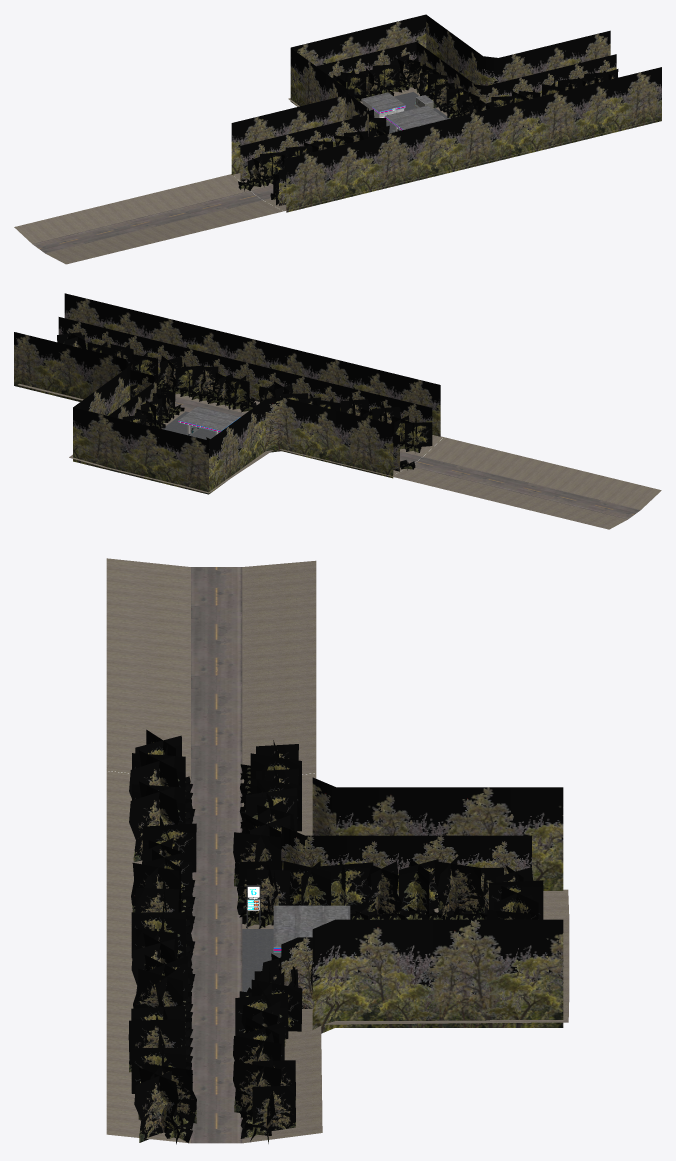
Rendered from gas_station.glb.
3 views of the same model, one above another, from view 1: azimuth 30°, elevation 25°; view 2: azimuth 150°, elevation 25°; view 3: azimuth 270°, elevation 25° (orthographic). The views are drawn at different scales.
Visible parts, largest first — view 1: Backgrounds_01, Backgrounds, Road.001, Trees_002, Trees_004, Trees_005, Trees_003, The_ceiling, Ground, 6twelve.003, AsphaltDamaged; view 2: Backgrounds, Backgrounds_01, Road.001, Trees_001, Ground, Trees_002, The_ceiling, Bushs_01, Road, AsphaltDamaged; view 3: Backgrounds, Road.001, Trees_001, Ground, Road, Trees, Trees_003, Trees_005, Trees_004, The_ceiling, AsphaltDamaged, Bushs_05 (+3 smaller).
Boxes of the visible parts, <box> form: Backgrounds_01: <box>279,67,661,212</box>; Backgrounds: <box>231,14,616,181</box>; Road.001: <box>14,174,283,264</box>; Trees_002: <box>409,63,481,115</box>; Trees_004: <box>332,54,420,97</box>; Trees_005: <box>247,126,386,181</box>; Trees_003: <box>476,69,618,111</box>; The_ceiling: <box>384,105,446,130</box>; Ground: <box>233,87,655,211</box>; 6twelve.003: <box>361,92,405,111</box>; AsphaltDamaged: <box>386,92,449,133</box>; Backgrounds: <box>14,332,399,494</box>; Backgrounds_01: <box>58,293,440,436</box>; Road.001: <box>391,437,661,529</box>; Trees_001: <box>57,328,432,447</box>; Ground: <box>17,384,443,493</box>; Trees_002: <box>122,387,175,427</box>; The_ceiling: <box>178,406,240,432</box>; Bushs_01: <box>190,388,421,452</box>; Road: <box>175,396,422,463</box>; AsphaltDamaged: <box>162,411,218,439</box>; Backgrounds: <box>281,777,563,1033</box>; Road.001: <box>106,558,316,779</box>; Trees_001: <box>128,729,196,1142</box>; Ground: <box>106,771,569,1143</box>; Road: <box>191,779,242,1143</box>; Trees: <box>245,855,503,919</box>; Trees_003: <box>233,965,302,1143</box>; Trees_005: <box>233,740,301,911</box>; Trees_004: <box>487,865,543,919</box>; The_ceiling: <box>273,905,350,952</box>; AsphaltDamaged: <box>242,929,281,991</box>; Bushs_05: <box>254,906,488,928</box>.
Size of the model in its own units: 300 by 30.12 by 101.
Materials: 63 (61 with a texture image).
